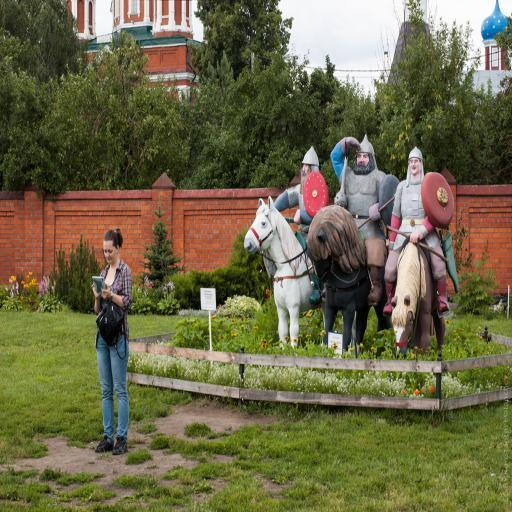horse: (244, 192, 326, 350), (307, 204, 391, 352), (388, 239, 446, 355)
